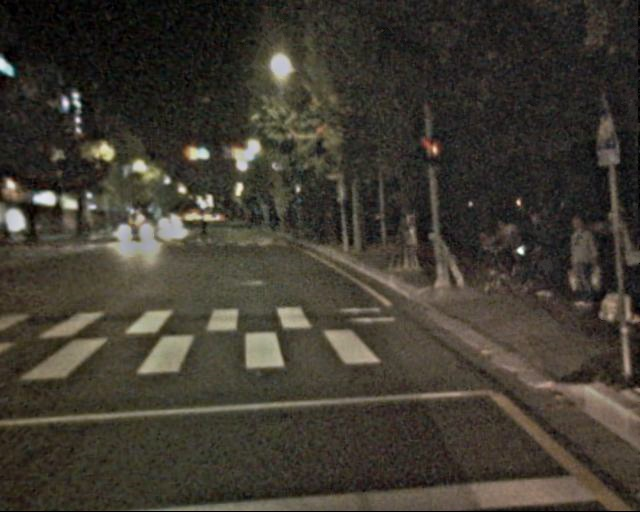person: (496, 215, 560, 301), (561, 214, 600, 309), (609, 214, 640, 325), (192, 214, 208, 249)
